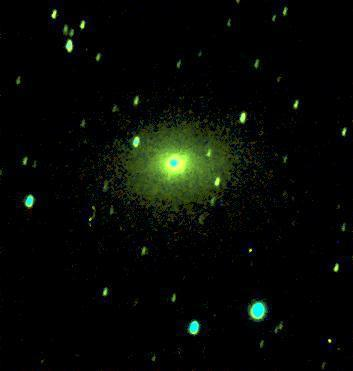star: (151, 168, 181, 198)
